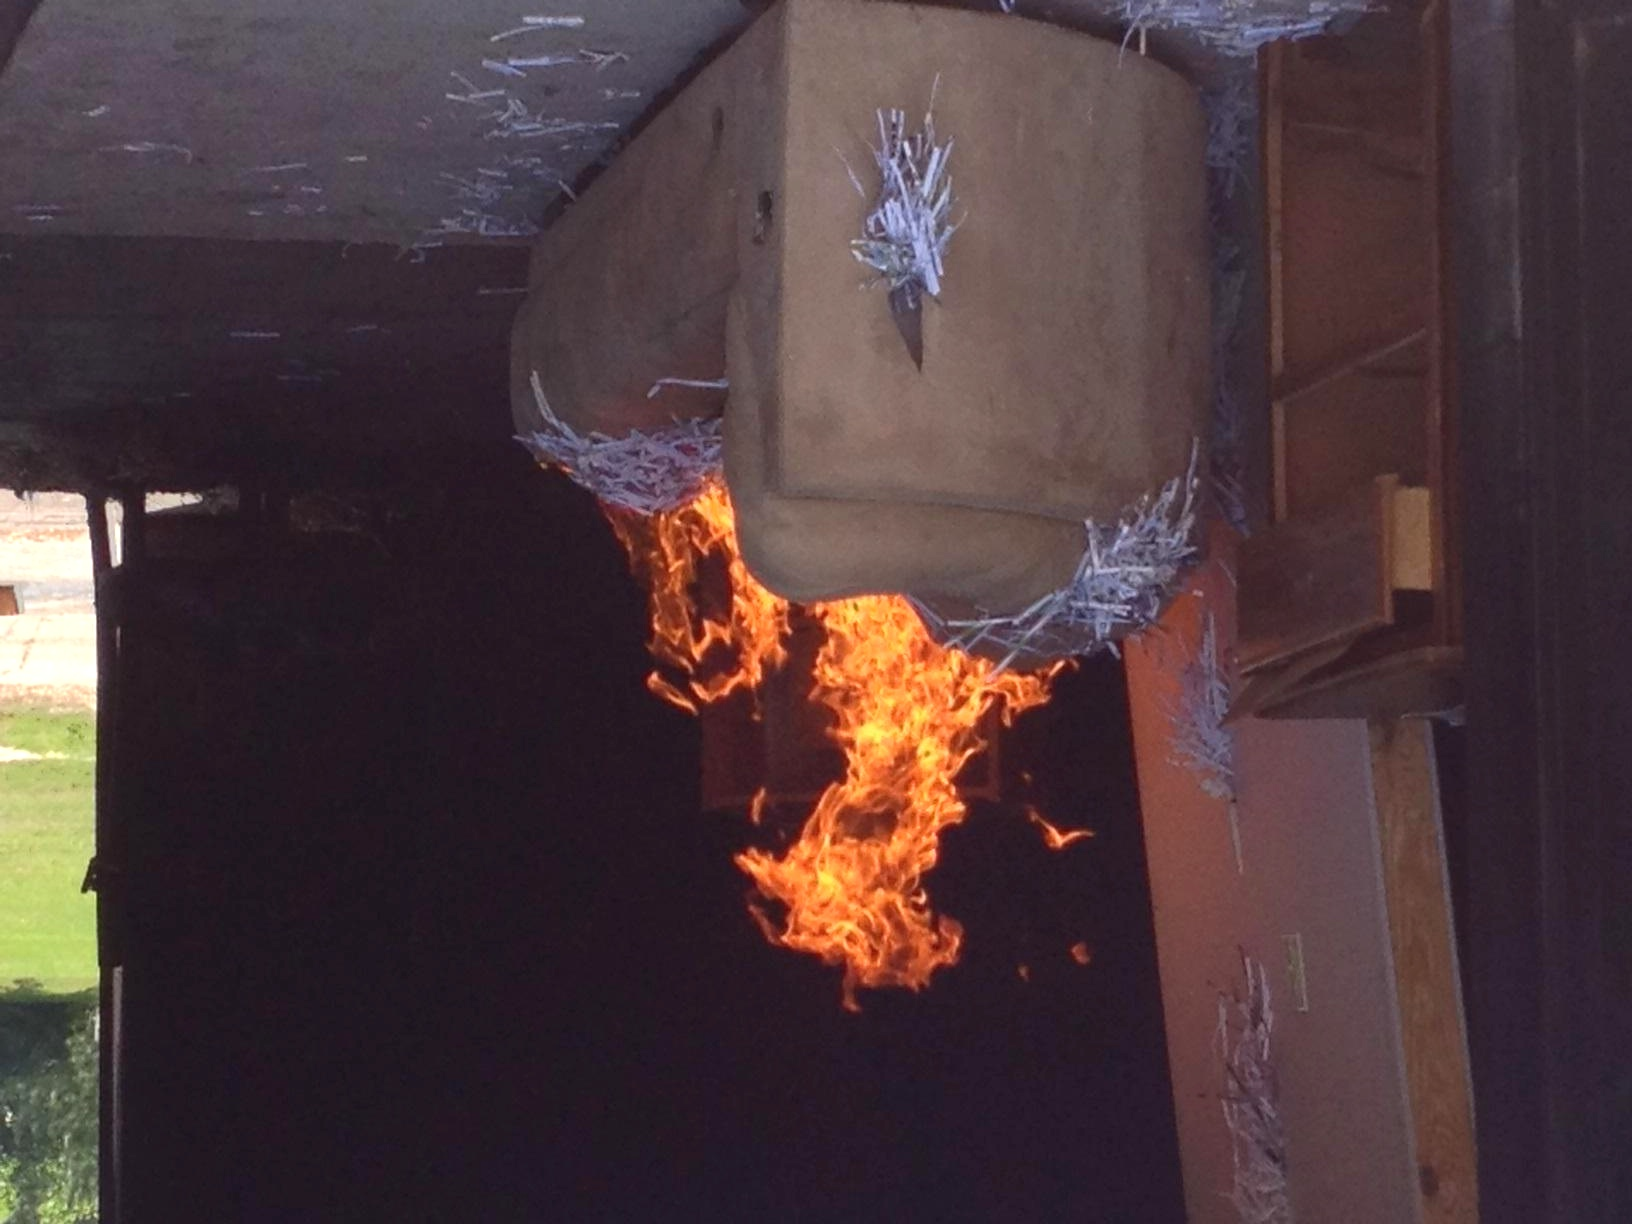fire: (649, 573, 1052, 1016)
